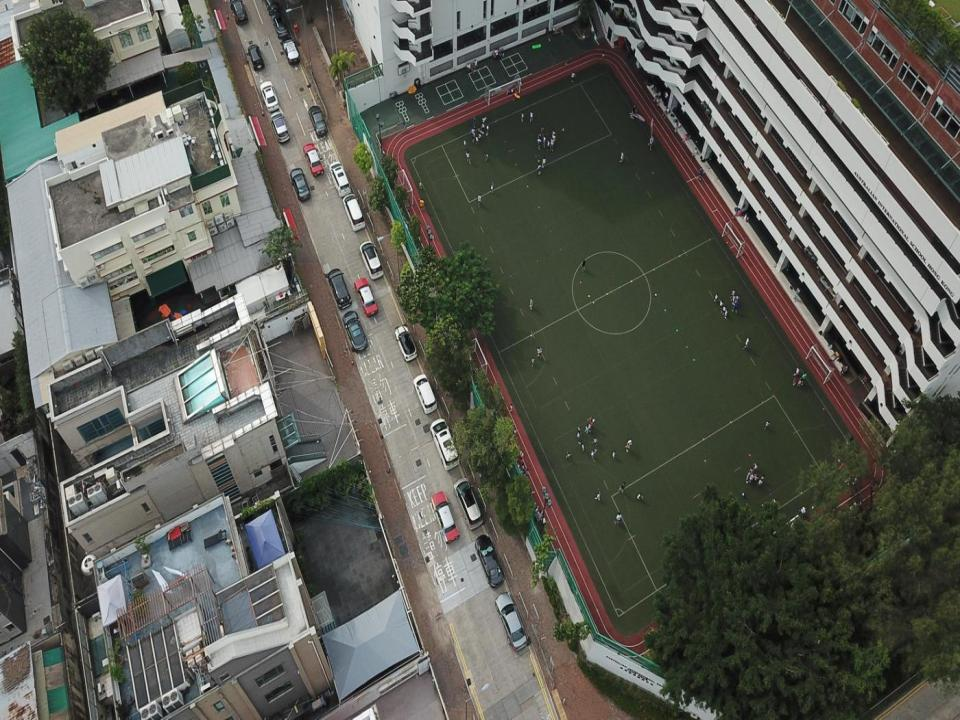car: (495, 591, 527, 650), (475, 534, 505, 588), (430, 490, 459, 544), (354, 277, 378, 317), (343, 312, 367, 352), (395, 324, 418, 361), (290, 167, 311, 202), (303, 142, 324, 176), (308, 105, 328, 137), (261, 81, 279, 112), (282, 37, 300, 64), (272, 16, 288, 40)
van: (430, 418, 459, 470), (455, 477, 482, 530), (328, 268, 352, 309), (360, 241, 384, 280), (414, 374, 438, 413), (343, 194, 365, 231), (330, 161, 351, 196), (272, 112, 290, 142), (229, 0, 248, 26), (248, 44, 264, 70)
